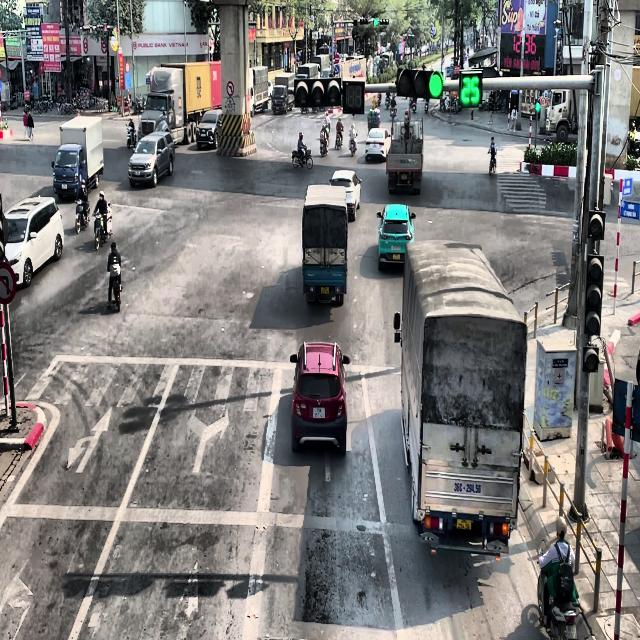lisence_plate: (453, 480, 482, 496), (312, 404, 325, 420), (319, 284, 330, 296), (392, 253, 400, 261)
